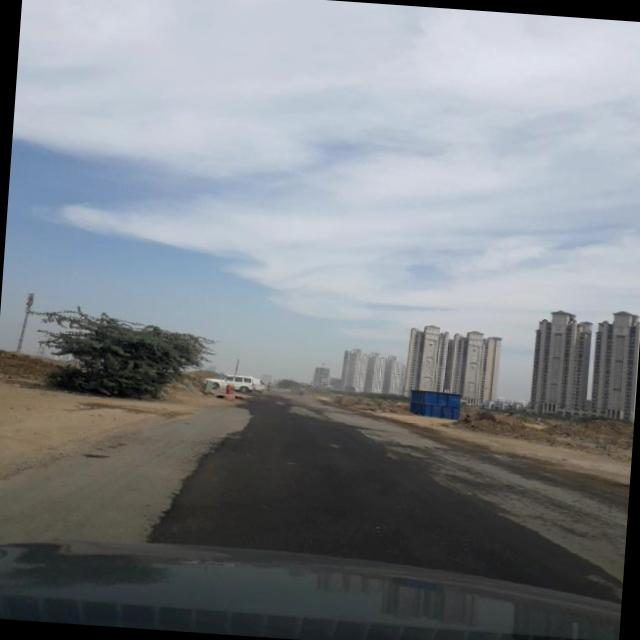pothole: (156, 402, 252, 530)
